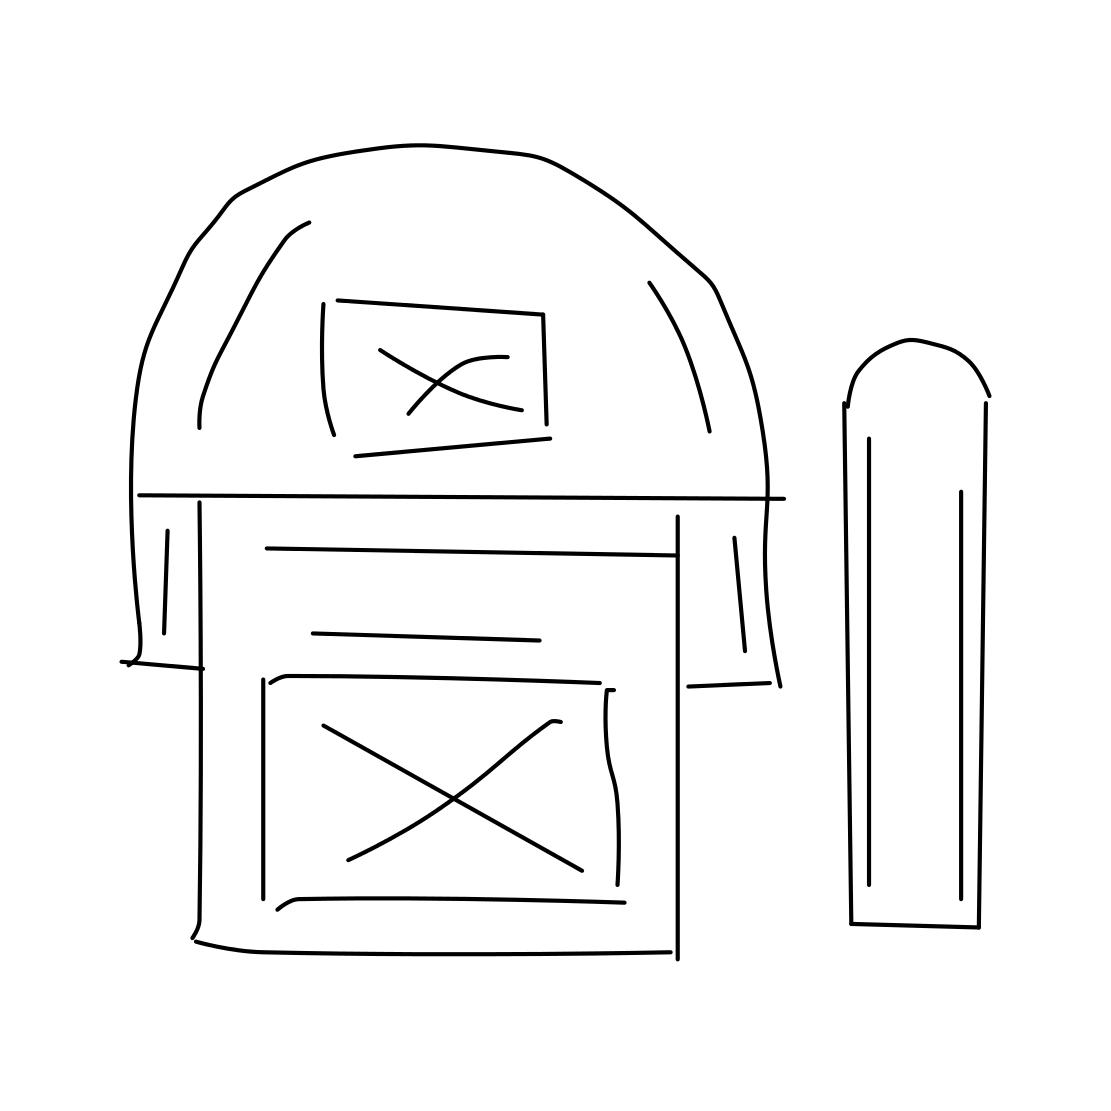House: (86, 117, 797, 985)
